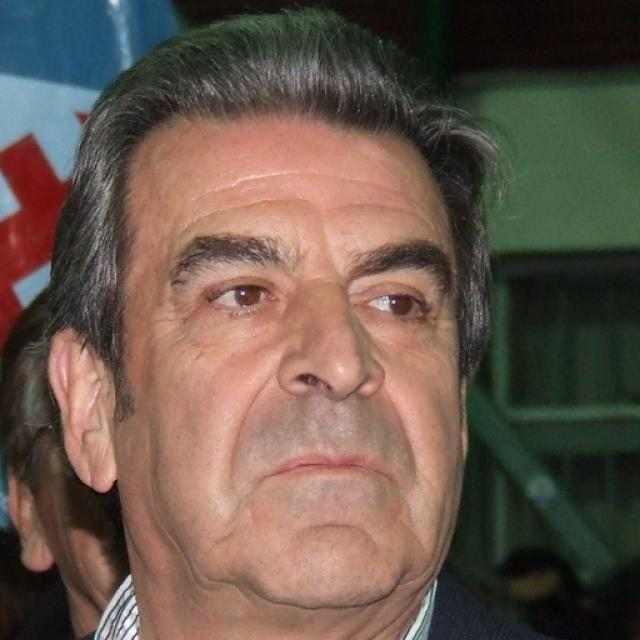Wrinkle: (197, 163, 430, 215), (227, 377, 274, 483), (180, 193, 289, 238), (340, 197, 431, 232), (313, 517, 385, 554), (391, 389, 418, 478)
